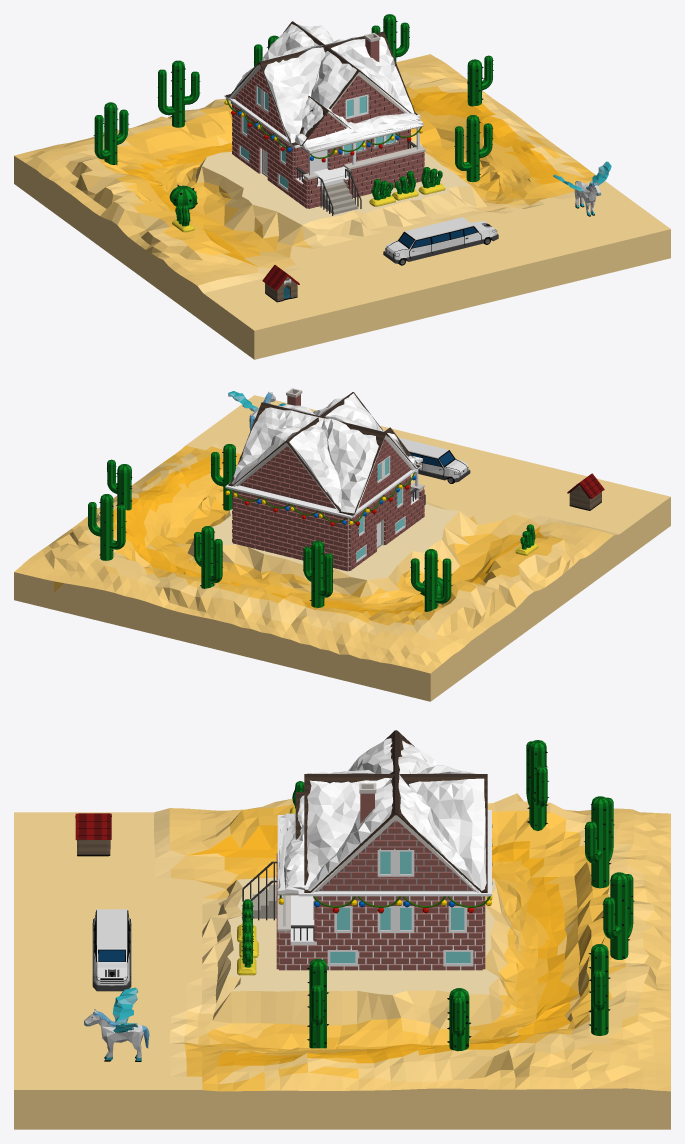
3 renders of one model, top to bottom at view 1: azimuth 30°, elevation 25°; view 2: azimuth 150°, elevation 25°; view 3: azimuth 270°, elevation 25°, orthographic. The views are drawn at different scales.
Visible parts, largest first — view 1: Cube.001, Cube.1419, VEHICLES_LIMOUSINE, Cylinder.037, Cylinder.044, Cylinder.045, Cylinder.038, ANIMAL_PEGASO, OBJRANDOM_DOGHOUSE, Cylinder.042, Cylinder.039, Cylinder.041 (+2 smaller); view 2: Cube.001, Cube.1419, Cylinder.042, Cylinder.045, VEHICLES_LIMOUSINE, Cylinder.044, Cylinder.043, Cylinder.037, Cylinder.038, OBJRANDOM_DOGHOUSE, ANIMAL_PEGASO; view 3: Cube.001, Cube.1419, VEHICLES_LIMOUSINE, Cylinder.043, Cylinder.044, ANIMAL_PEGASO, Cylinder.045, Cylinder.042, Cylinder.037, OBJRANDOM_DOGHOUSE, Cylinder.038, Cylinder.041.
Boxes of the visible parts, x1,y1,x2,y2 form: Cube.001: (14,54,670,359); Cube.1419: (224,21,425,215); VEHICLES_LIMOUSINE: (383,217,498,265); Cylinder.037: (454,115,493,182); Cylinder.044: (157,60,200,127); Cylinder.045: (93,102,129,164); Cylinder.038: (467,55,493,106); ANIMAL_PEGASO: (553,161,611,216); OBJRANDOM_DOGHOUSE: (262,265,299,302); Cylinder.042: (371,14,409,62); Cylinder.039: (369,179,395,206); Cylinder.041: (418,167,445,194); Cube.001: (14,395,670,701); Cube.1419: (225,388,425,571); Cylinder.042: (88,494,126,560); Cylinder.045: (410,549,452,611); VEHICLES_LIMOUSINE: (398,437,470,483); Cylinder.044: (303,540,333,607); Cylinder.043: (193,526,222,588); Cylinder.037: (211,444,240,510); Cylinder.038: (107,459,132,510); OBJRANDOM_DOGHOUSE: (567,473,604,510); ANIMAL_PEGASO: (228,391,285,430); Cube.001: (14,793,670,1129); Cube.1419: (242,730,492,970); VEHICLES_LIMOUSINE: (92,909,131,991); Cylinder.043: (602,872,634,959); Cylinder.044: (584,796,614,888); ANIMAL_PEGASO: (84,987,149,1061); Cylinder.045: (526,740,548,830); Cylinder.042: (588,944,610,1035); Cylinder.037: (307,959,328,1048); OBJRANDOM_DOGHOUSE: (75,813,111,856); Cylinder.038: (447,988,471,1051); Cylinder.041: (237,932,256,975).
Bounding box in the file's own units: 4002 × 1635 × 4001.
Materials: 43 (2 with a texture image).
